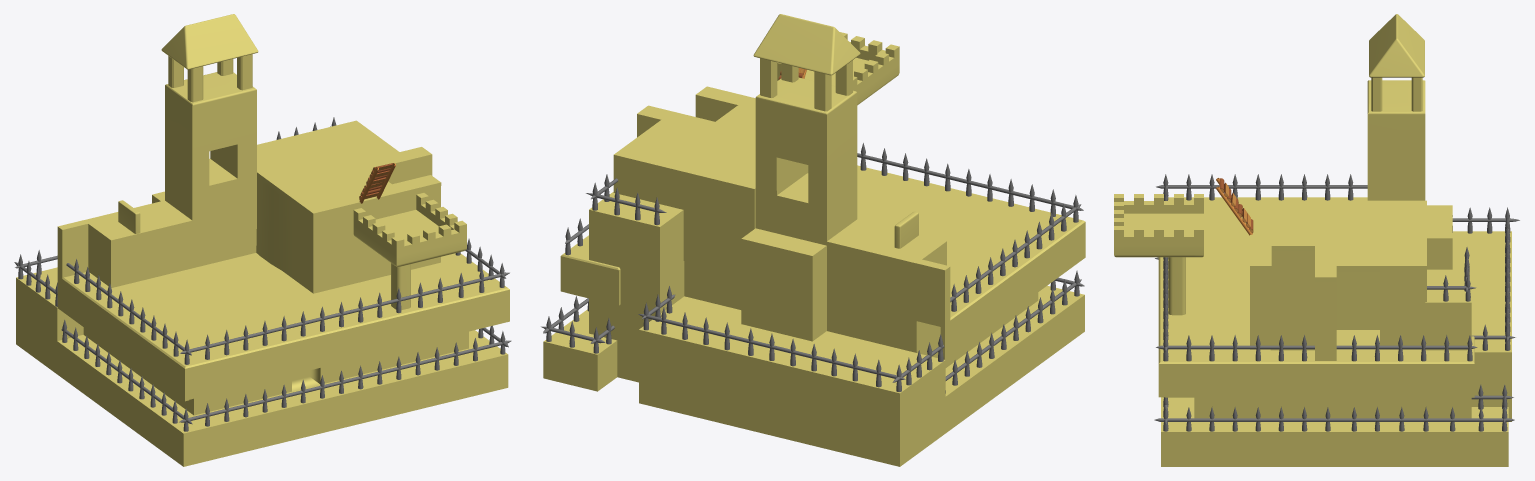
File: stage001_mainMap_fix.fbx
The picture shows the model from 3 angles, left to right: view 1: azimuth 30°, elevation 25°; view 2: azimuth 150°, elevation 25°; view 3: azimuth 270°, elevation 25°; orthographic projection. The views are drawn at different scales.
Parts seen in each view (by area): view 1: Stage001_main, Stage001_side, Stage001_Fence, Stage001_BoxSetBar, Stage001_Roof, Brige002, Stage001_smallWall; view 2: Stage001_main, Stage001_side, Stage001_Fence, Stage001_Roof, Stage001_BoxSetBar, Stage001_smallWall; view 3: Stage001_main, Stage001_side, Stage001_Fence, Stage001_BoxSetBar, Stage001_Roof, Brige002.
Boxes of the visible parts, x1,y1,x2,y2 form: Stage001_main: (16,72,509,466); Stage001_side: (256,120,441,293); Stage001_Fence: (14,117,511,431); Stage001_BoxSetBar: (353,193,466,310); Stage001_Roof: (161,14,258,102); Brige002: (359,163,395,203); Stage001_smallWall: (118,200,140,233); Stage001_main: (543,77,1085,466); Stage001_side: (613,86,808,274); Stage001_Fence: (541,143,1084,393); Stage001_Roof: (753,14,860,111); Stage001_BoxSetBar: (777,32,899,105); Stage001_smallWall: (894,211,918,248); Stage001_main: (1158,80,1511,466); Stage001_side: (1250,200,1426,360); Stage001_Fence: (1154,174,1519,431); Stage001_BoxSetBar: (1114,194,1203,315); Stage001_Roof: (1369,14,1424,111); Brige002: (1216,178,1253,235).
Size of the model in its own units: 34.93 by 33.03 by 35.21.
3 materials, 1 textured.
